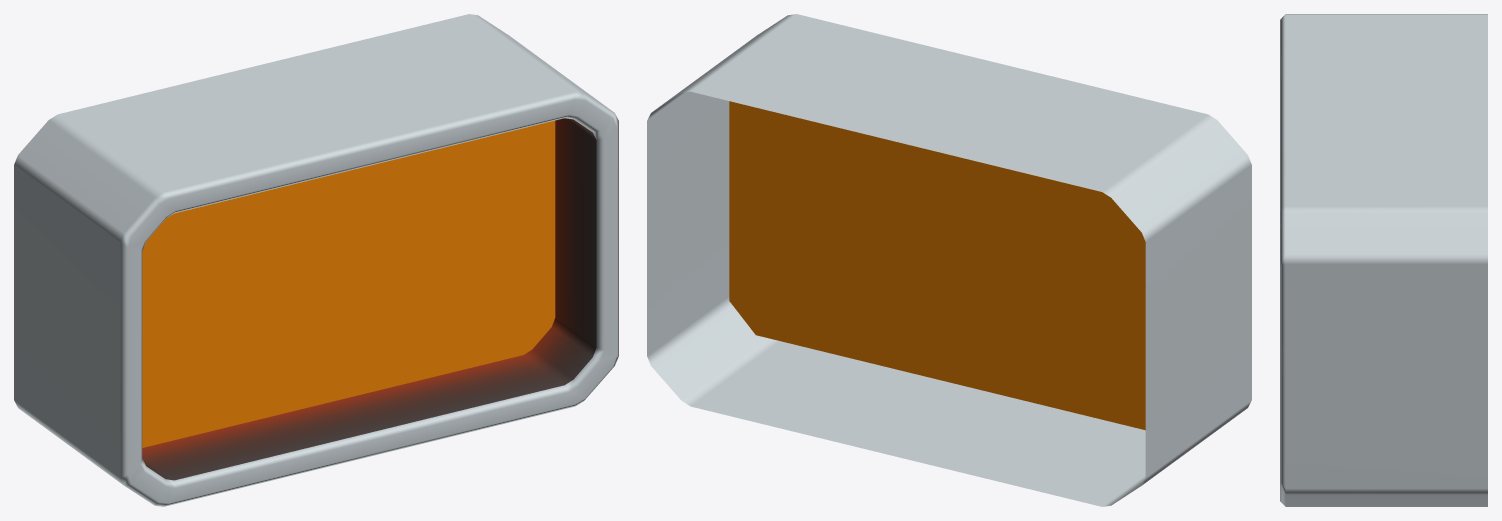
File: heatsink_002.fbx
3 views of the same model, side by side, from view 1: azimuth 30°, elevation 25°; view 2: azimuth 150°, elevation 25°; view 3: azimuth 270°, elevation 25° (orthographic). The views are drawn at different scales.
Visible parts, largest first — view 1: heatsink_002; view 2: heatsink_002; view 3: heatsink_002.
Part boxes in pixels (x1,y1,x2,y2): heatsink_002: (14,14,618,506); heatsink_002: (647,14,1251,506); heatsink_002: (1280,14,1487,506).
Size of the model in its own units: 981 by 372 by 592.
